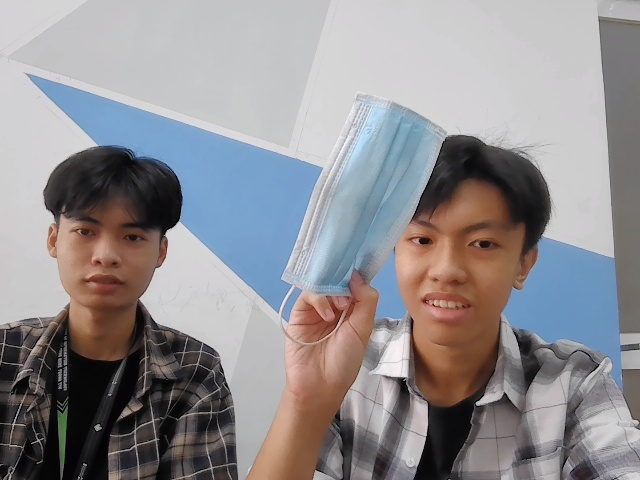human: (404, 134, 544, 338), (52, 144, 174, 310)
mask: (276, 90, 458, 304)
